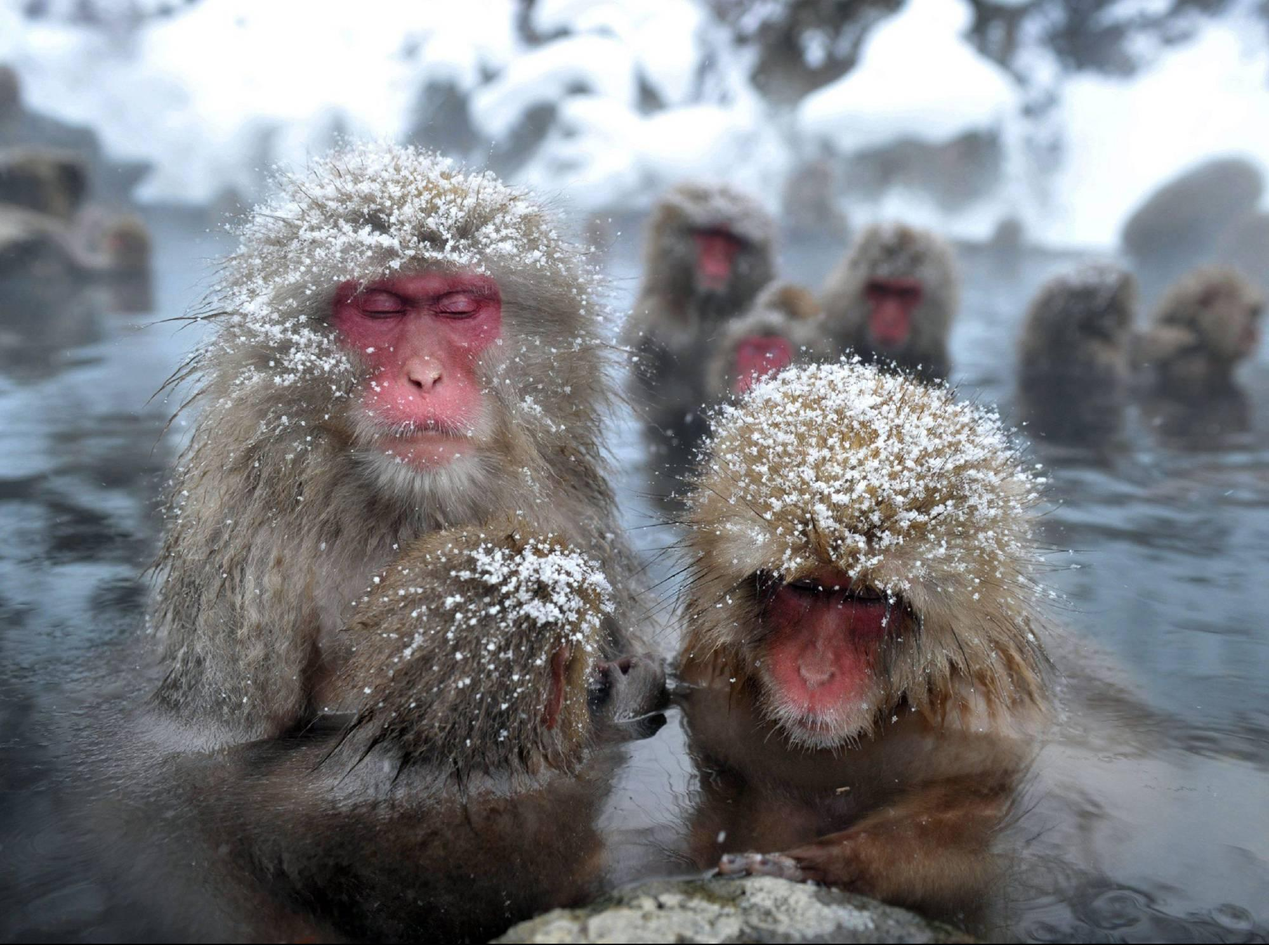monkey: (149, 142, 674, 844)
